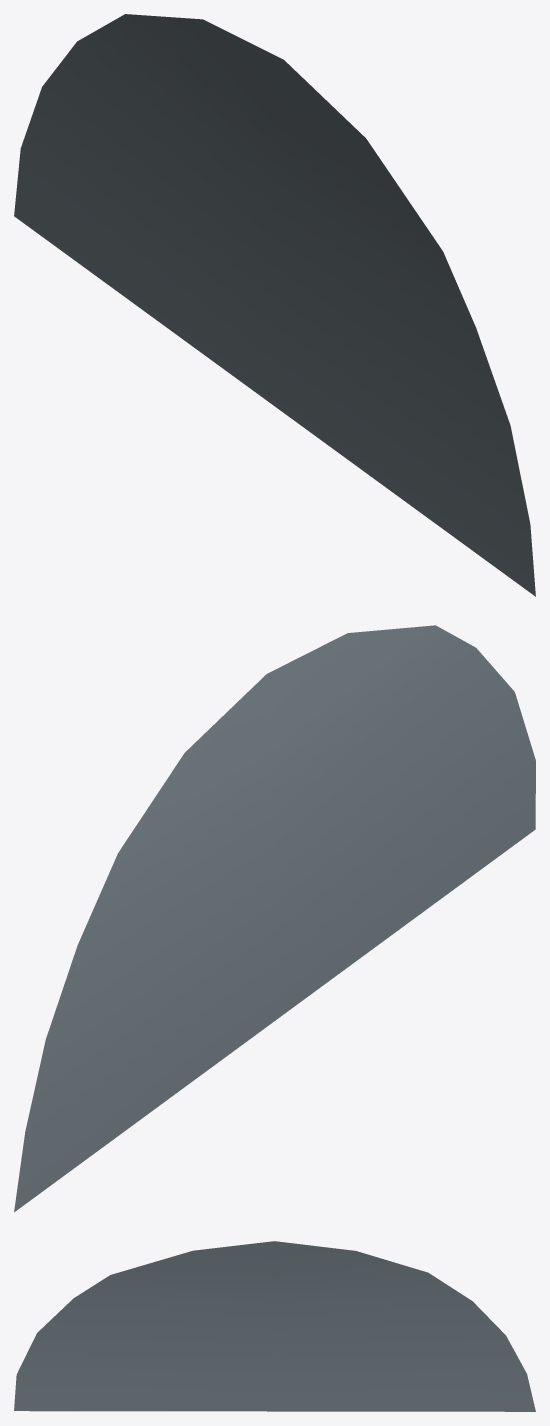
File: left_wall.fbx
The picture shows the model from 3 angles, top to bottom: view 1: azimuth 30°, elevation 25°; view 2: azimuth 150°, elevation 25°; view 3: azimuth 270°, elevation 25°; orthographic projection. The views are drawn at different scales.
Visible parts, largest first — view 1: left_wall; view 2: left_wall; view 3: left_wall.
Part boxes in pixels (x1,y1,x2,y2): left_wall: [14, 14, 535, 596]; left_wall: [14, 625, 535, 1212]; left_wall: [14, 1241, 535, 1411].
Size of the model in its own units: 0.1598 by 4.35 by 11.91.
